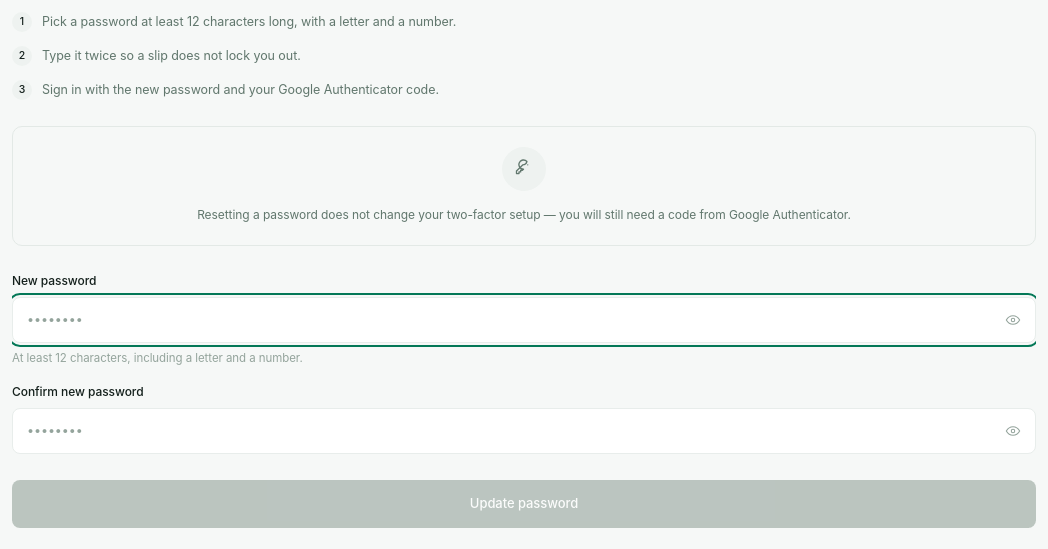
Test: ResetPasswordForm › enforces the password policy before touching the network
The width and height of the screenshot is (1048, 549).
Type "short1" into the password field labelled "New password" at (524, 320), box [12,296,1036,342]
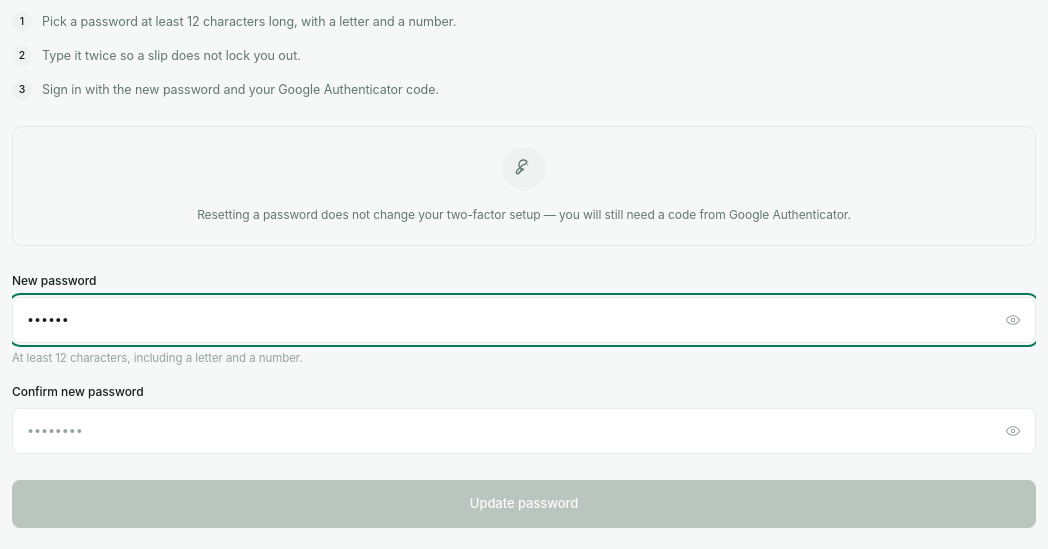
Type "short1" into the password field labelled "Confirm new password" at (524, 431), box [12,408,1036,454]
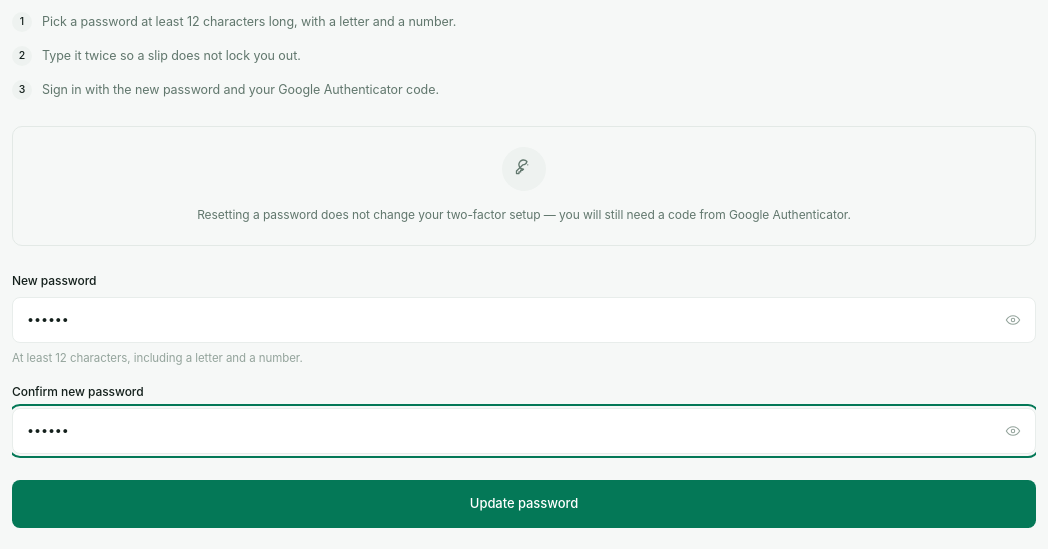
Click the button "Update password" at (524, 504), box [12,480,1036,528]
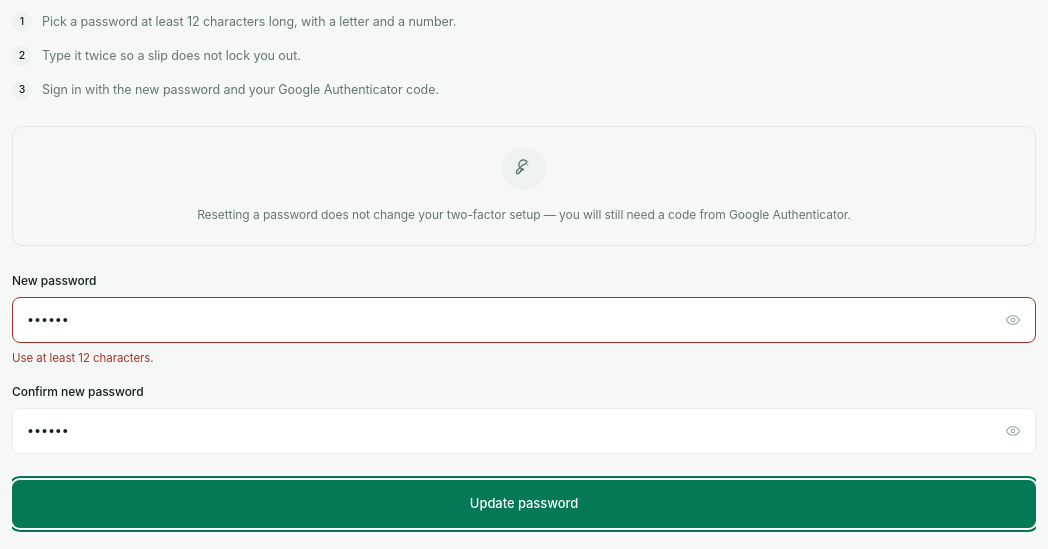
Expected: the text "Use at least 12 characters." is shown, [12,350,154,364]
